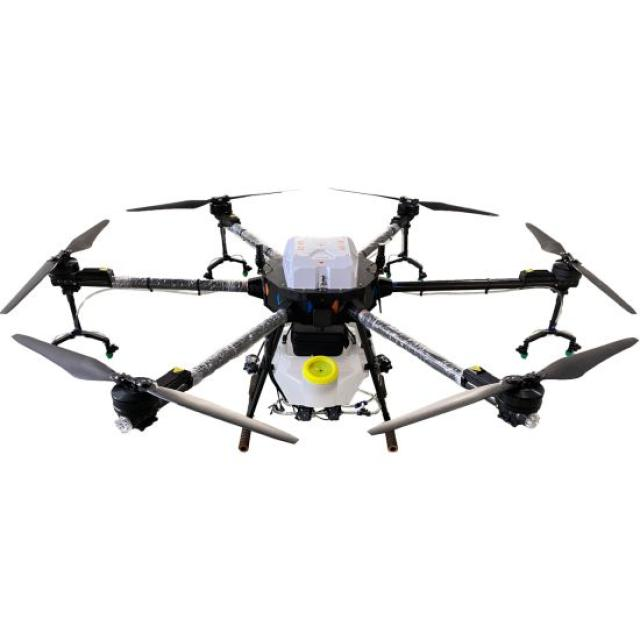drone: (1, 163, 640, 491)
